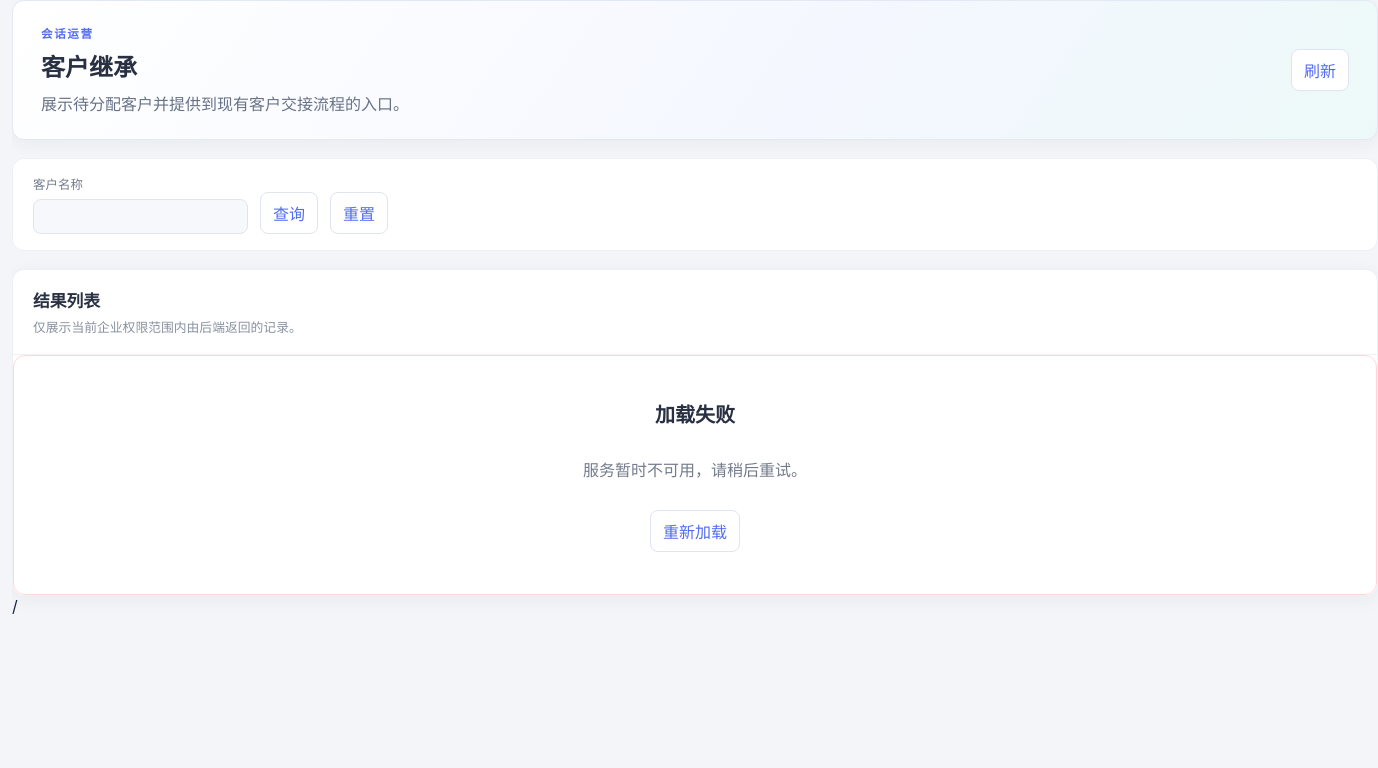
Phase33OperationsPage › retries a provider request after an API error
Expected: the heading "加载失败" is shown, [655,398,735,428]
What coordinates should you click on to do the following:
click the button "重新加载"
I would click on:
 (695, 530)
Its box is [650,510,740,552].
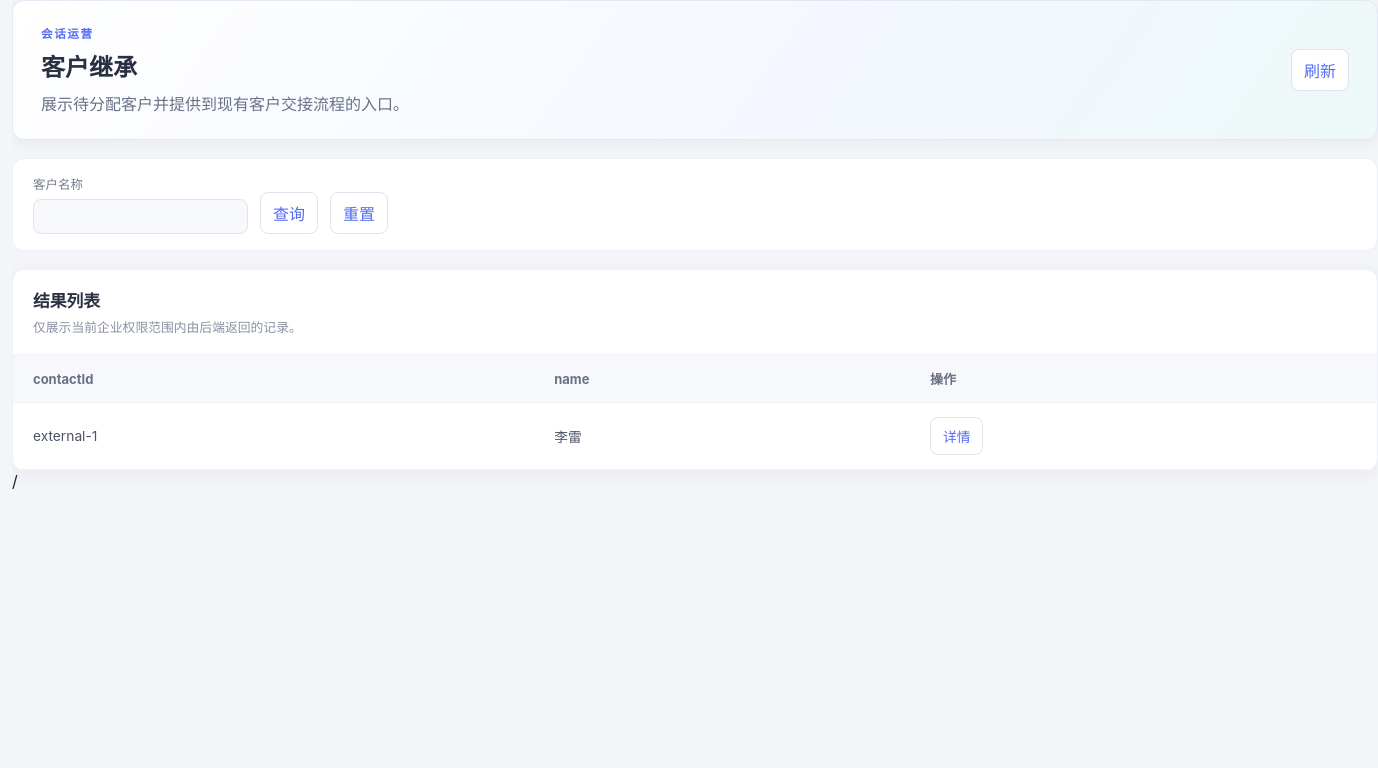
Expected: the text "李雷" is shown, [534,402,910,470]
